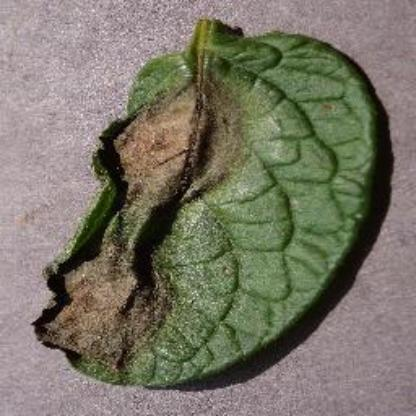Late-Blight: (46, 8, 388, 414)
